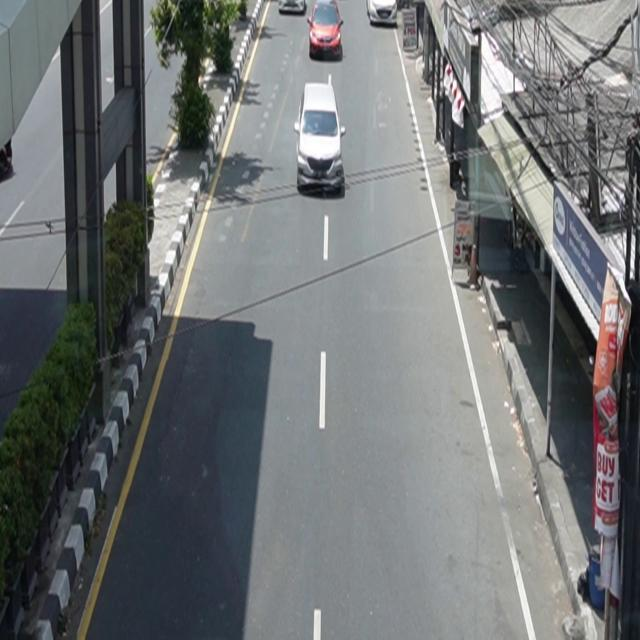car: (295, 75, 347, 195), (308, 1, 345, 61), (367, 1, 398, 26), (279, 1, 308, 15)
